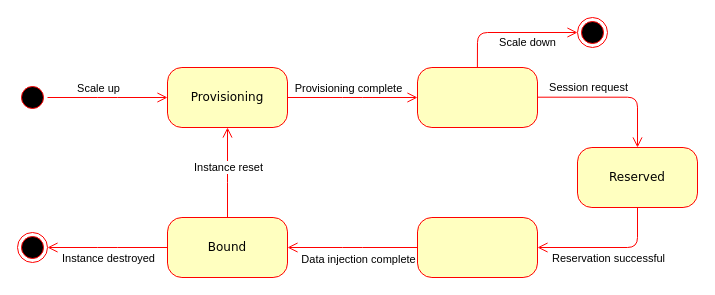
This 715x295 diagram has some shape labels left out. The shapes that lost their labels are listed below. From the top down, each one's centre as x and y in pixels, then its label:
At [477,97]: "Prewarmed".
At [477,247]: "Personalizing".
